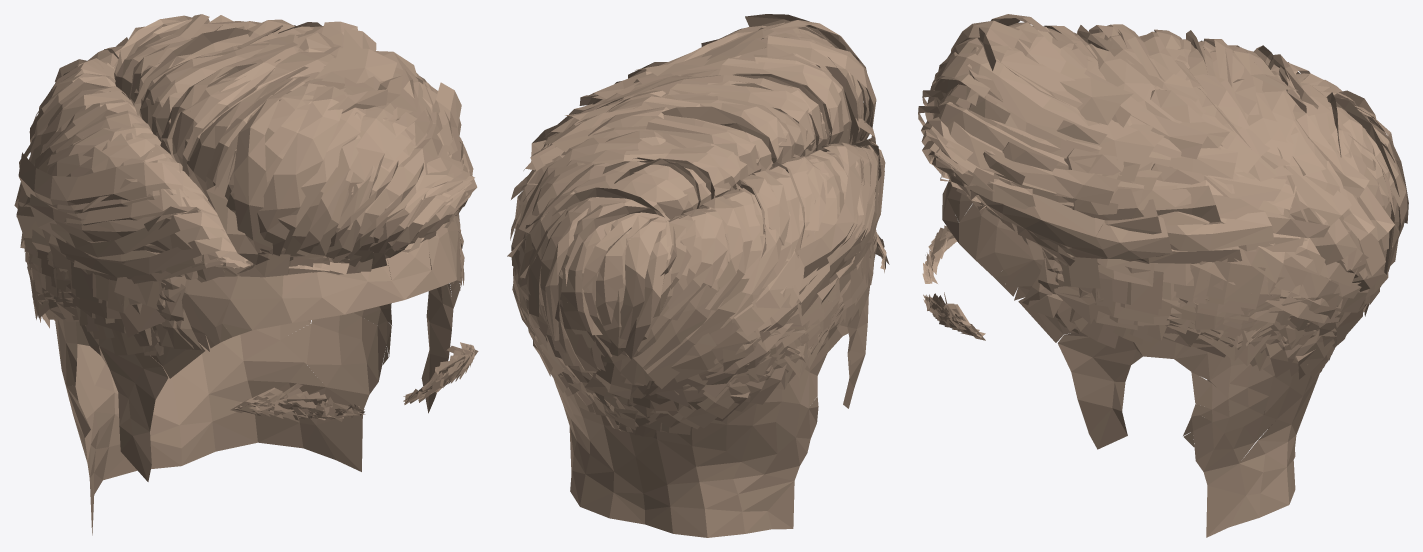
The model's file is male_hair_04_lod0.glb.
The picture shows the model from 3 angles, left to right: view 1: azimuth 30°, elevation 25°; view 2: azimuth 150°, elevation 25°; view 3: azimuth 270°, elevation 25°; orthographic projection. The views are drawn at different scales.
Parts seen in each view (by area): view 1: hair_04; view 2: hair_04; view 3: hair_04.
Part boxes in pixels (bbox=[...]): hair_04: bbox=[14, 14, 478, 535]; hair_04: bbox=[507, 14, 889, 537]; hair_04: bbox=[918, 14, 1408, 537].
Bounding box in the file's own units: 0.1596 × 0.201 × 0.201.
